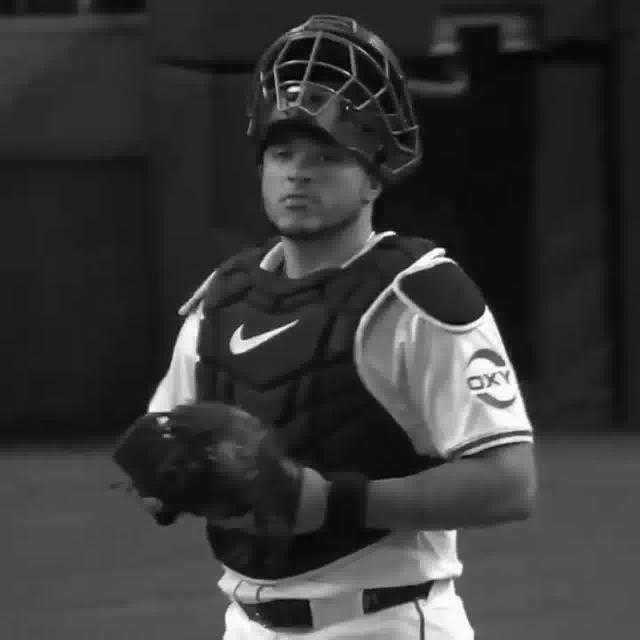baseball_glove: (112, 404, 298, 539)
